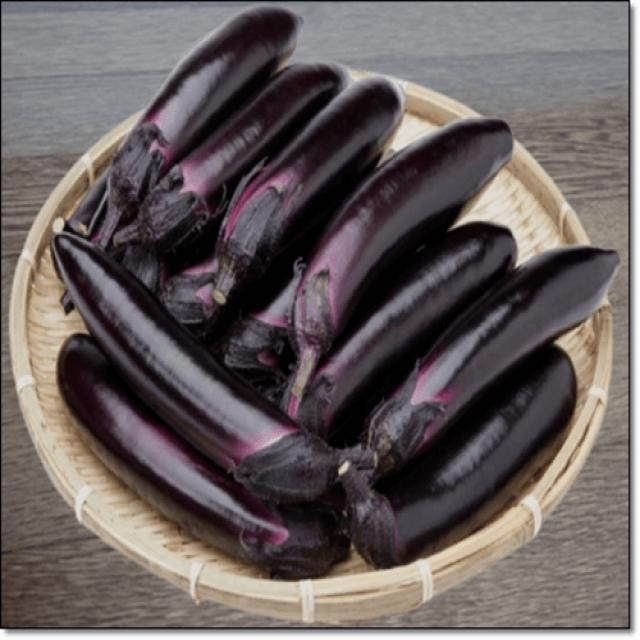eggplant: (48, 0, 631, 588), (28, 217, 442, 616), (278, 103, 542, 398), (68, 6, 296, 272)
